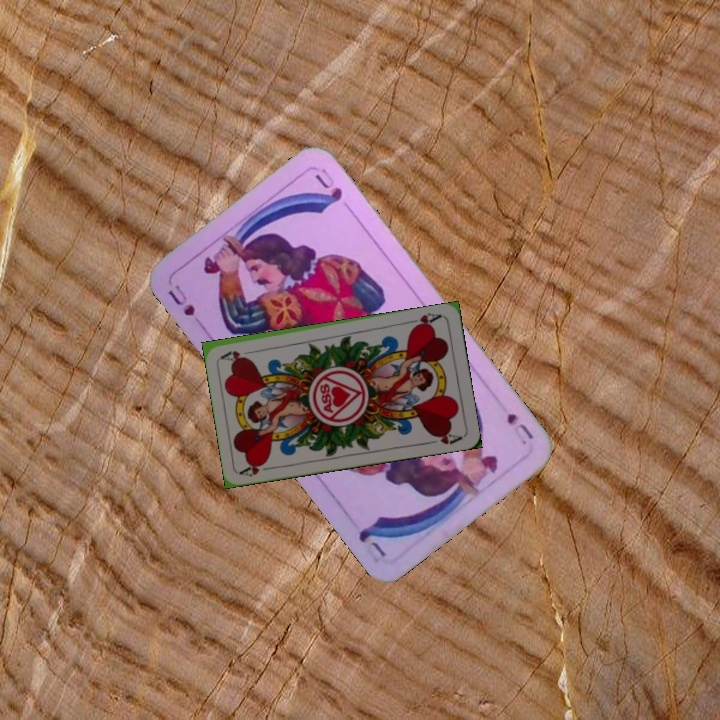HA: (237, 457, 278, 479), (404, 309, 444, 331)
SU: (163, 280, 207, 330), (502, 409, 536, 448)
